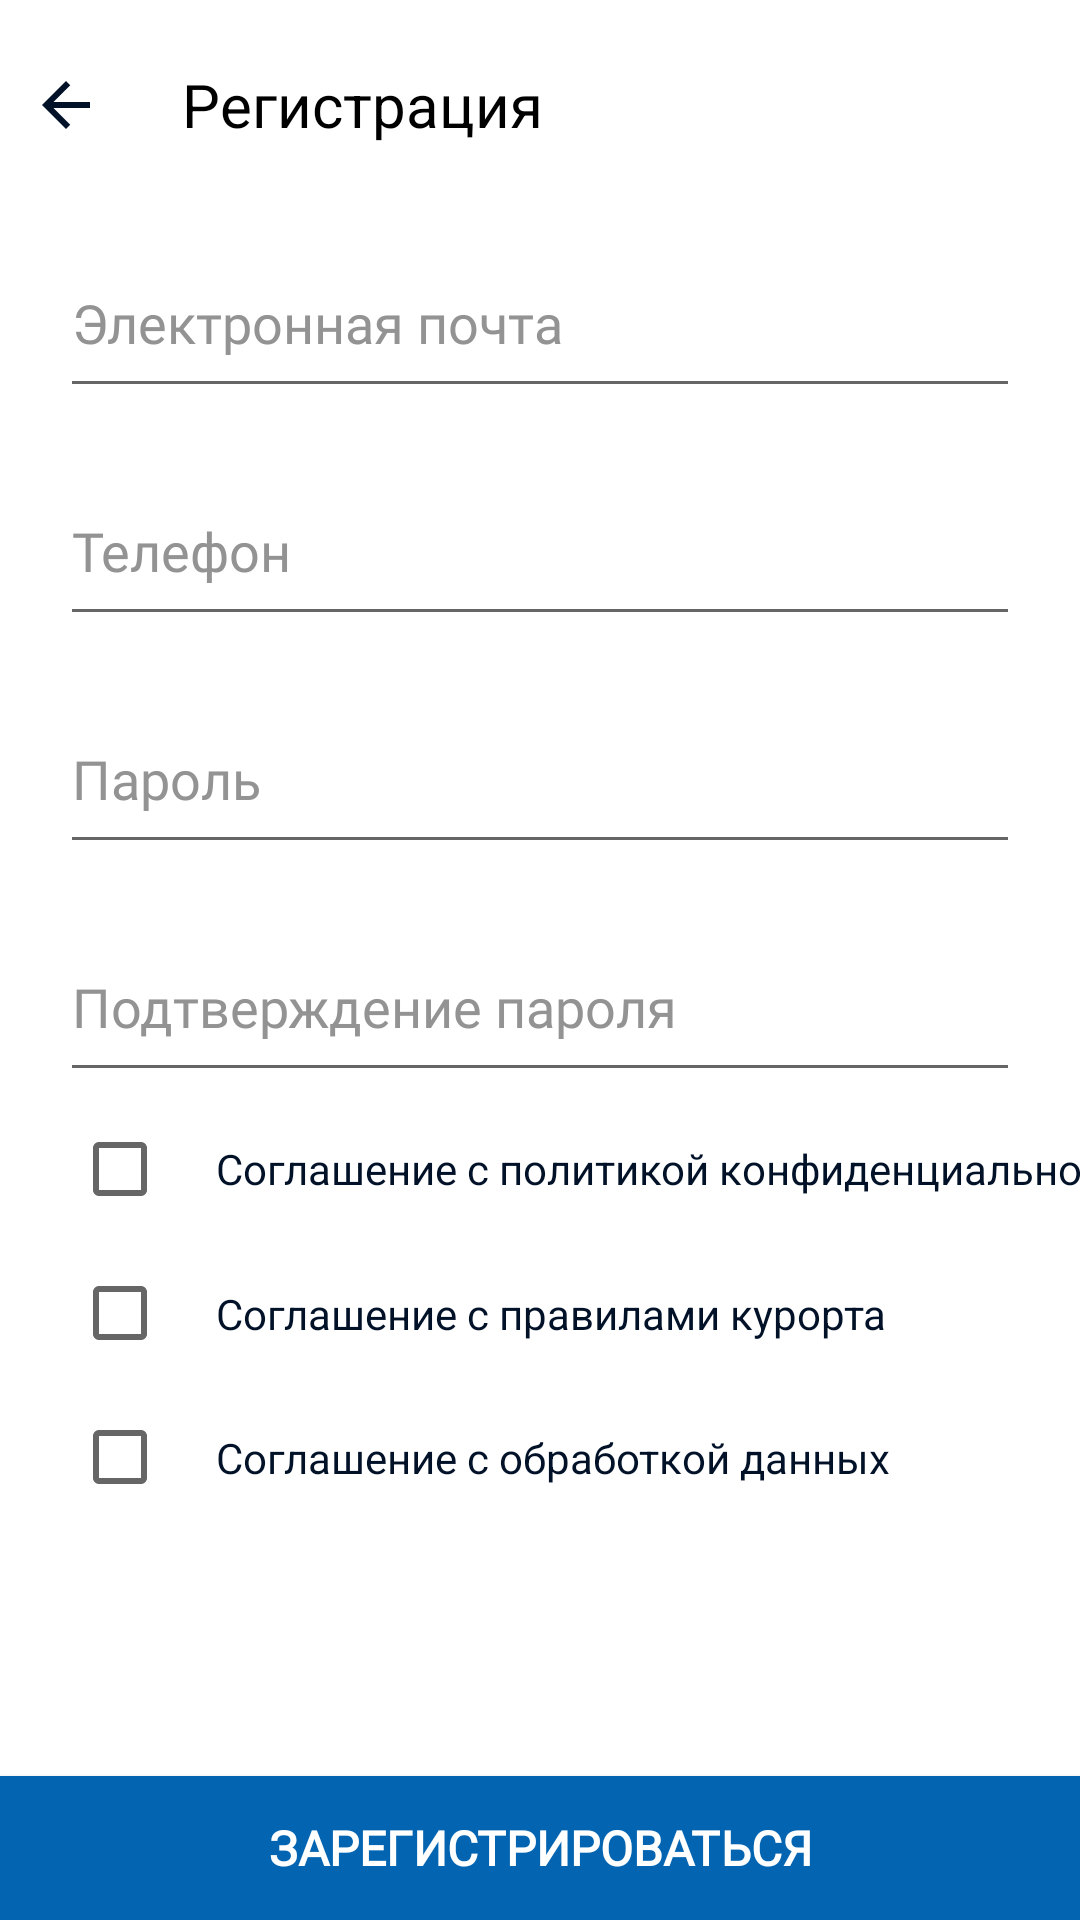

Locate icon controls on the screen. Image size 1080x1920, boxes as [x1,y1,x2,y2].
arrow back: [42,81,90,129]
